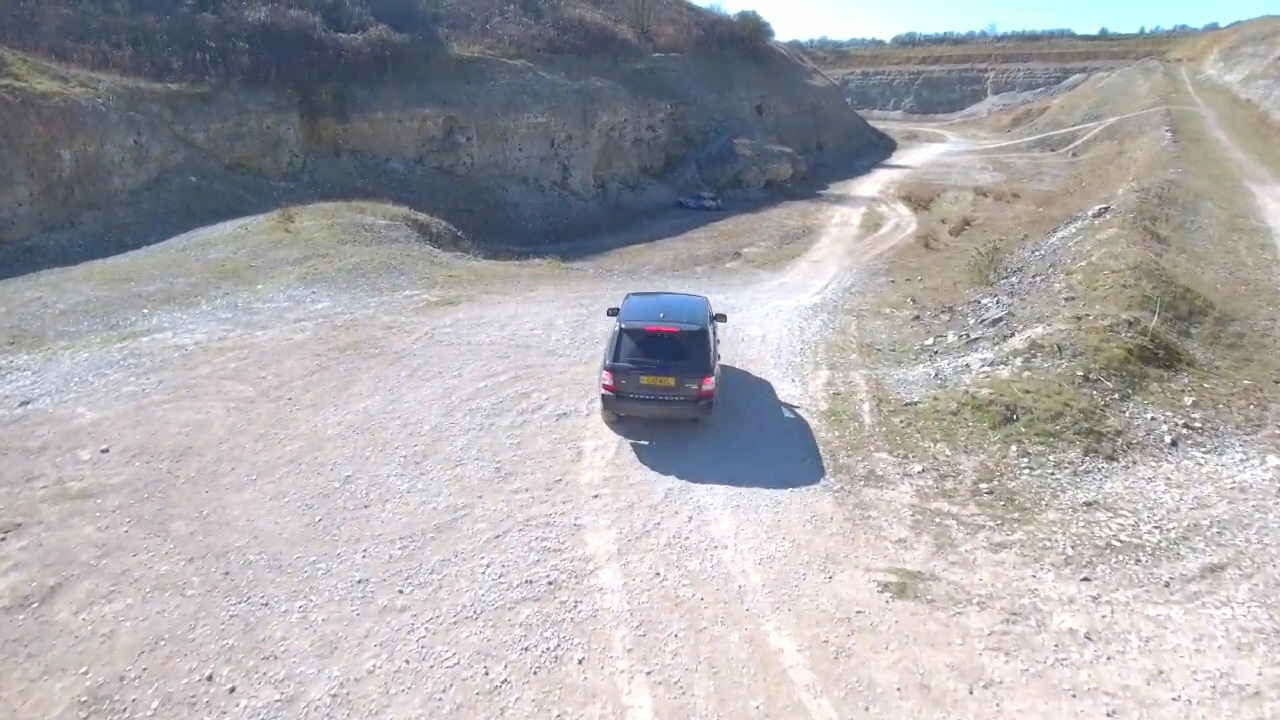araba: (594, 286, 731, 426)
